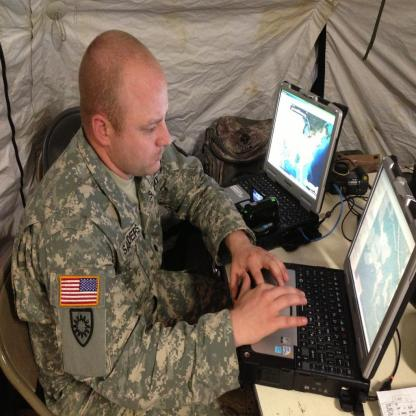board: (239, 154, 416, 400), (222, 81, 343, 245)
